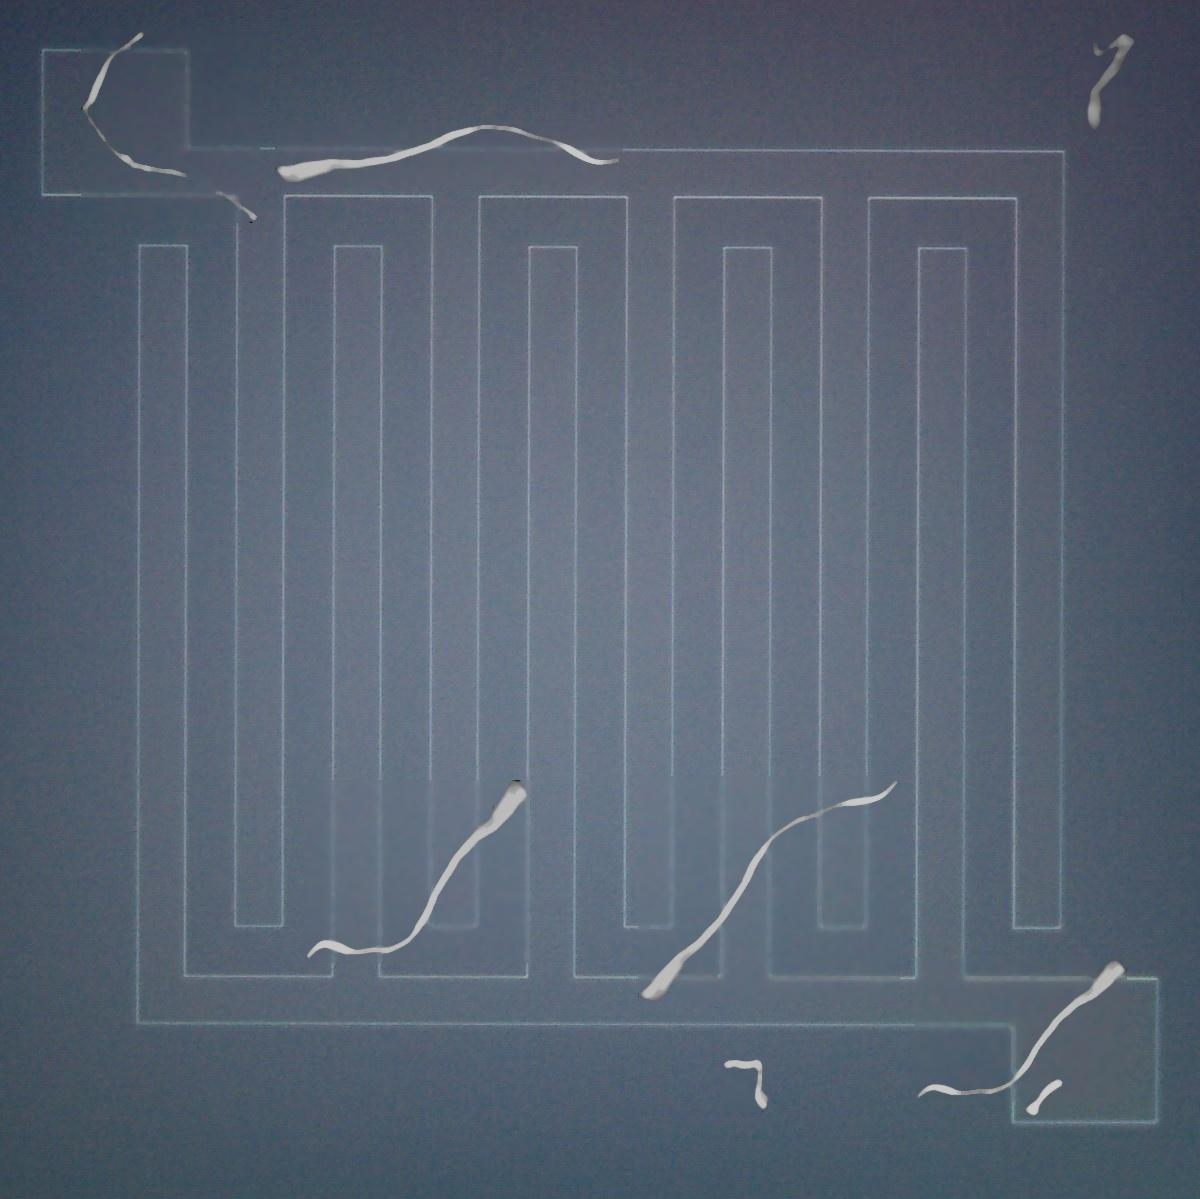foreign: (637, 774, 905, 1009), (298, 775, 536, 972), (76, 29, 265, 228), (910, 955, 1136, 1106), (272, 114, 629, 190), (1079, 30, 1140, 135), (721, 1054, 773, 1116), (1023, 1076, 1067, 1121)
